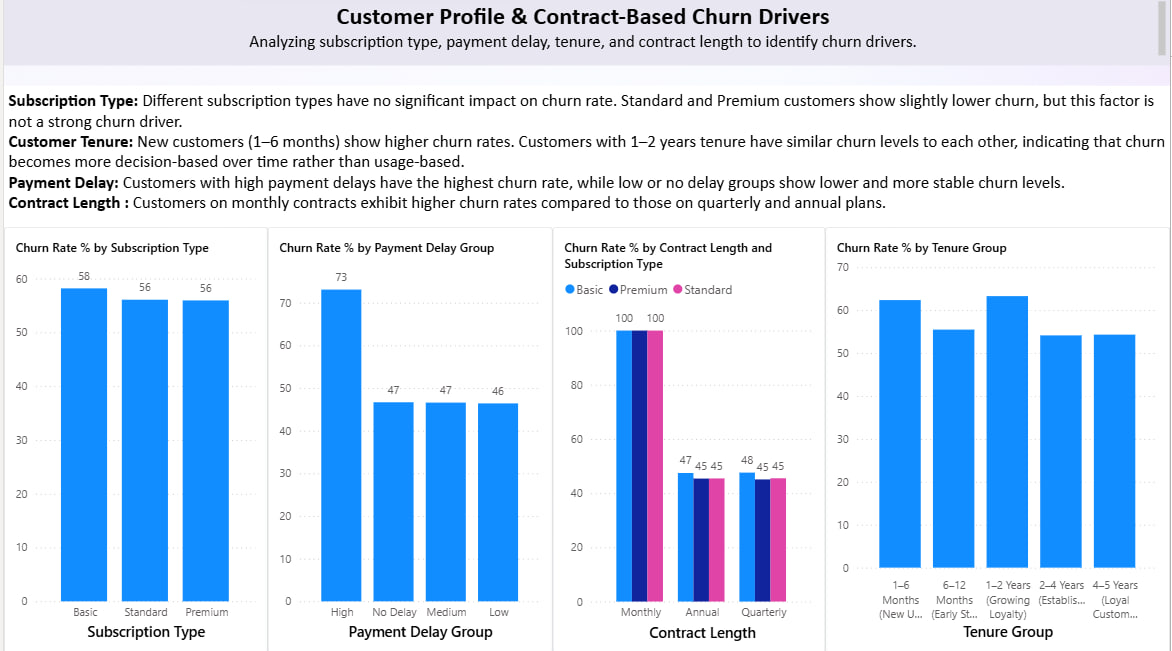

Layout of this report page (visuals, bound fields, positions):
{"tool":"powerbi","page":{"name":"Churn Drivers: Customer Profile","canvas":[1280,720],"ordinal":2},"visuals":[{"type":"textbox","box":[0,0,1280.3,75.5],"z":0},{"type":"clusteredColumnChart","fields":{"Category":["customer_churn_dataset-training-master.Subscription Type"],"Y":["customer_churn_dataset-training-master.Churn Rate %"]},"box":[0,252.5,289.5,467.9],"z":1},{"type":"clusteredColumnChart","fields":{"Category":["customer_churn_dataset-training-master.Tenure Group"],"Y":["customer_churn_dataset-training-master.Churn Rate %"]},"box":[901.5,252.5,378.7,467.9],"z":2},{"type":"clusteredColumnChart","fields":{"Category":["customer_churn_dataset-training-master.Payment Delay Group"],"Y":["customer_churn_dataset-training-master.Churn Rate %"]},"box":[289.5,252.5,312.9,467.9],"z":3},{"type":"clusteredColumnChart","fields":{"Category":["customer_churn_dataset-training-master.Contract Length"],"Y":["customer_churn_dataset-training-master.Churn Rate %"],"Series":["customer_churn_dataset-training-master.Subscription Type"]},"box":[602.4,252.5,299.1,467.9],"z":4},{"type":"textbox","box":[0,97.4,1280.3,155.1],"z":5}]}

Visuals, with their boxes in screenshot pixels (x1, y1, x2, y2), scaled from the page's 1280x720 canvas onto the 1172x651 screenshot:
textbox: 0,0,1171,68
clusteredColumnChart - customer_churn_dataset-training-master.Subscription Type x customer_churn_dataset-training-master.Churn Rate %: 0,228,265,650
clusteredColumnChart - customer_churn_dataset-training-master.Tenure Group x customer_churn_dataset-training-master.Churn Rate %: 825,228,1171,650
clusteredColumnChart - customer_churn_dataset-training-master.Payment Delay Group x customer_churn_dataset-training-master.Churn Rate %: 265,228,552,650
clusteredColumnChart - customer_churn_dataset-training-master.Contract Length x customer_churn_dataset-training-master.Churn Rate %: 552,228,825,650
textbox: 0,88,1171,228
